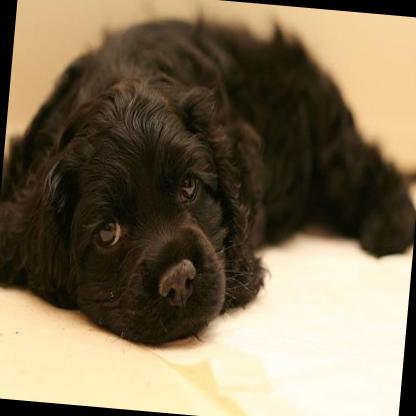cocker_spaniel: (0, 0, 416, 363)
